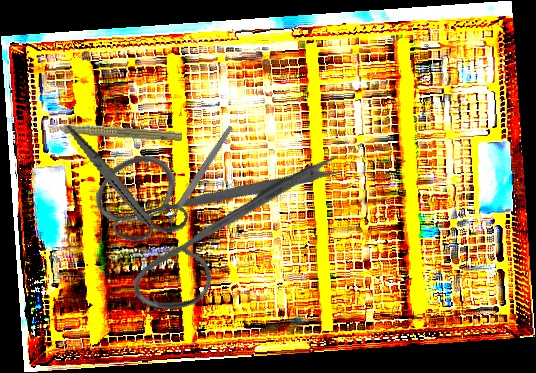Handpiece: (39, 116, 183, 144)
Iris Scissors: (60, 55, 351, 357), (42, 124, 204, 254)
Scalpel Handle: (166, 124, 234, 225)
